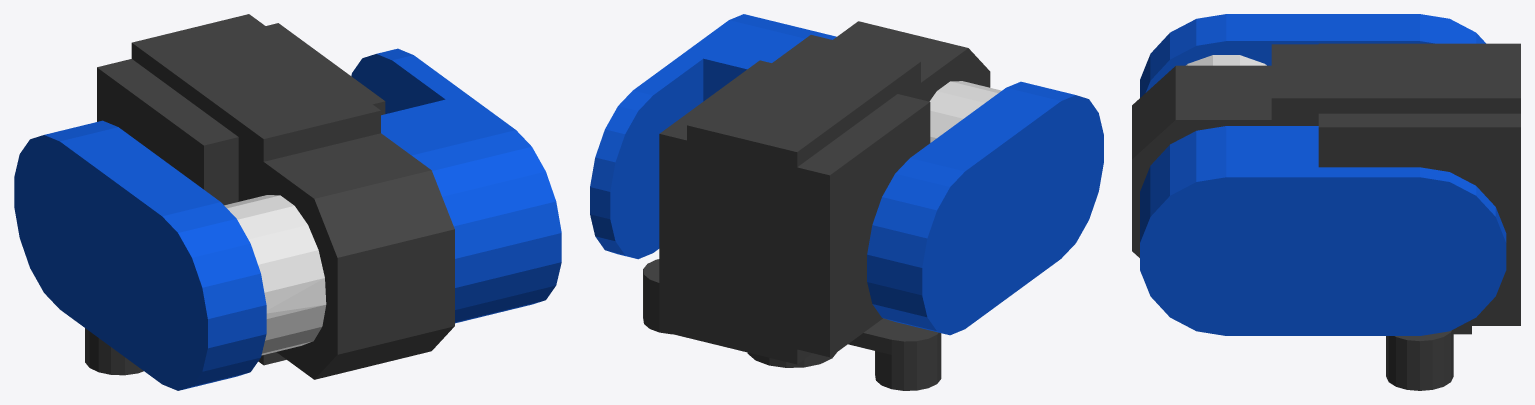
The model's file is L_WRIST_P_LINK_mesh.dae.
The picture shows the model from 3 angles, left to right: view 1: azimuth 30°, elevation 25°; view 2: azimuth 150°, elevation 25°; view 3: azimuth 270°, elevation 25°; orthographic projection. The views are drawn at different scales.
Parts seen in each view (by area): view 1: L_WRIST_P_LINK (×4); view 2: L_WRIST_P_LINK (×3); view 3: L_WRIST_P_LINK (×4).
Boxes of the visible parts, x1,y1,x2,y2 form: L_WRIST_P_LINK (×4): (14, 14, 561, 390); L_WRIST_P_LINK (×3): (590, 14, 1103, 390); L_WRIST_P_LINK (×4): (1132, 14, 1520, 390).
Bounding box in the file's own units: 0.0573 × 0.0407 × 0.0577.
